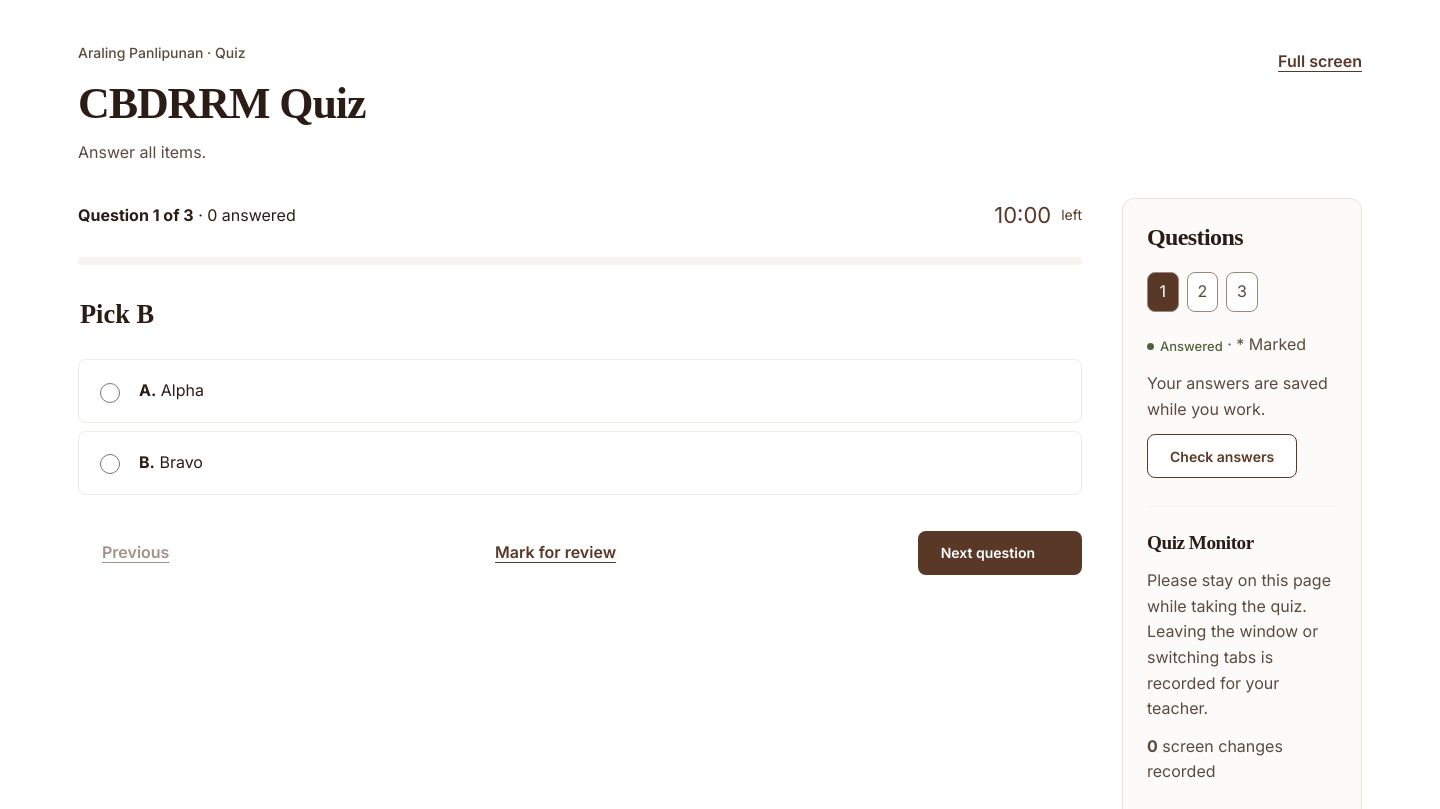
Test: QuizRunner › shows the first question, then navigates and records answers on the device
Expected: the heading "CBDRRM Quiz" is shown, [78, 78, 365, 130]
Expected: the text "Question 1 of 3" is shown, [78, 205, 194, 225]
Click the radio button labelled "B. Bravo": (110, 464) [100, 454, 120, 474]
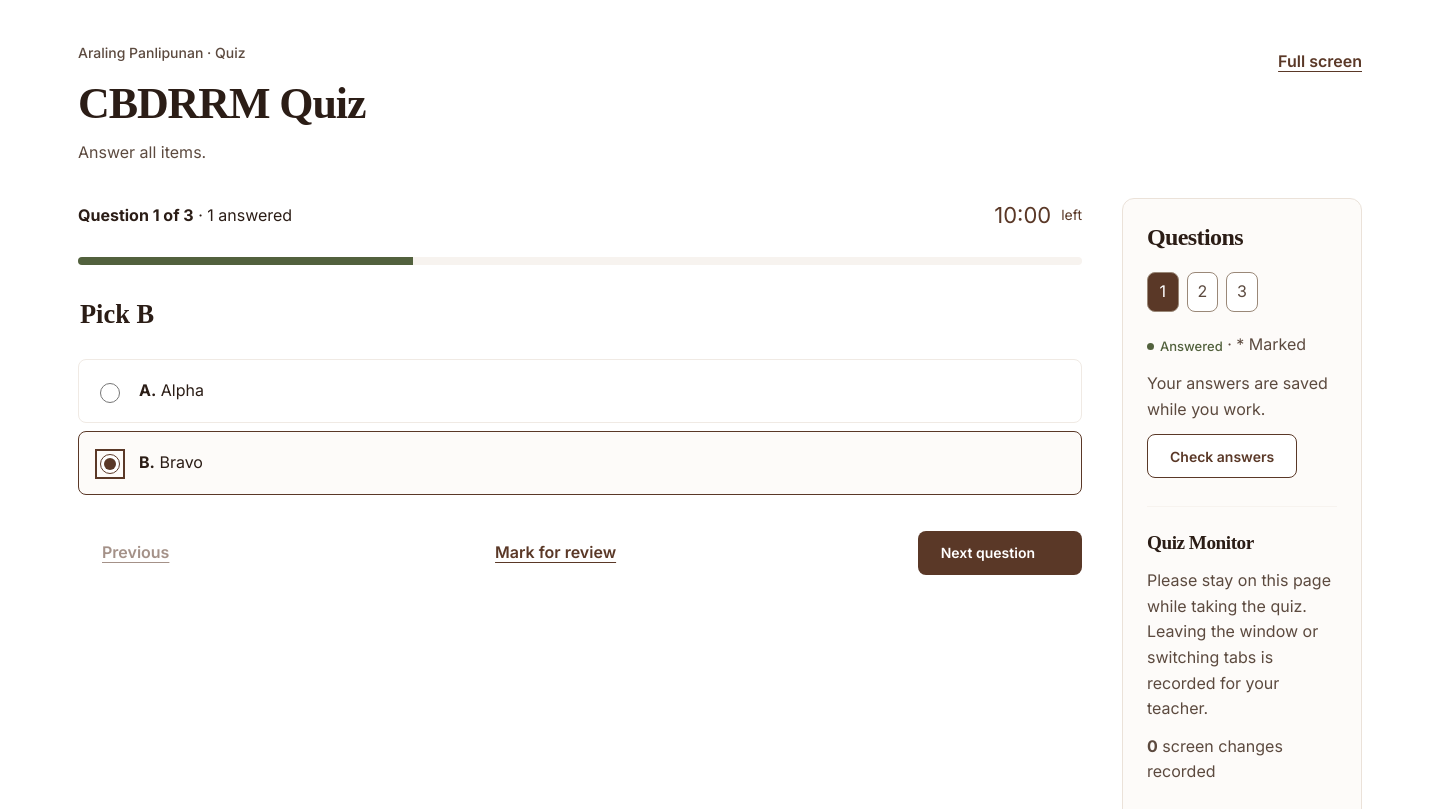
Expected: the text "Question 1 of 3 · 1 answered" is shown, [78, 203, 292, 228]
Click the button "Next question": (1000, 553) [918, 531, 1082, 575]
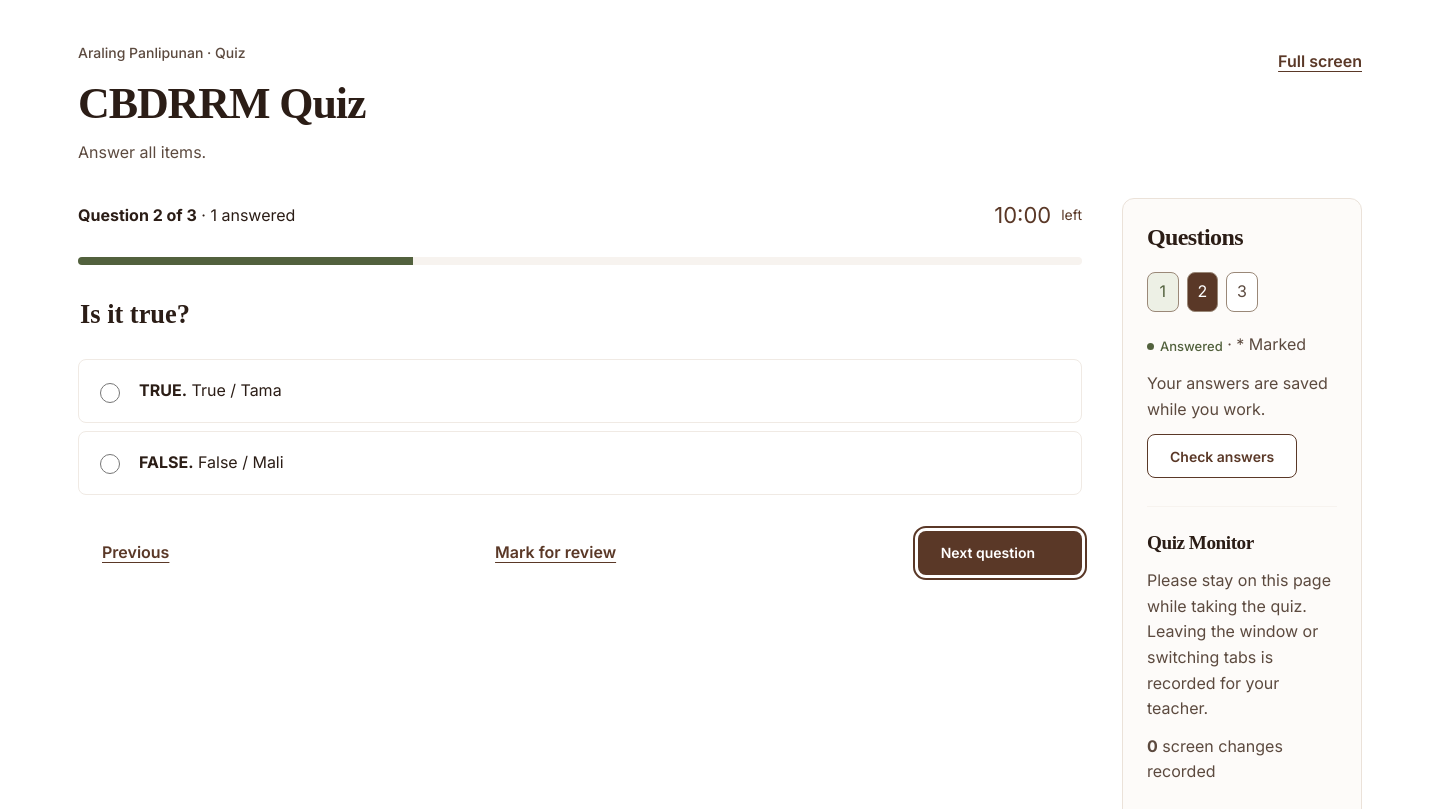
Expected: the radio button labelled "TRUE. True / Tama" is shown, [100, 383, 120, 403]
Expected: the text "Question 2 of 3" is shown, [78, 205, 197, 225]
Click the radio button labelled "FALSE. False / Mali": (110, 464) [100, 454, 120, 474]
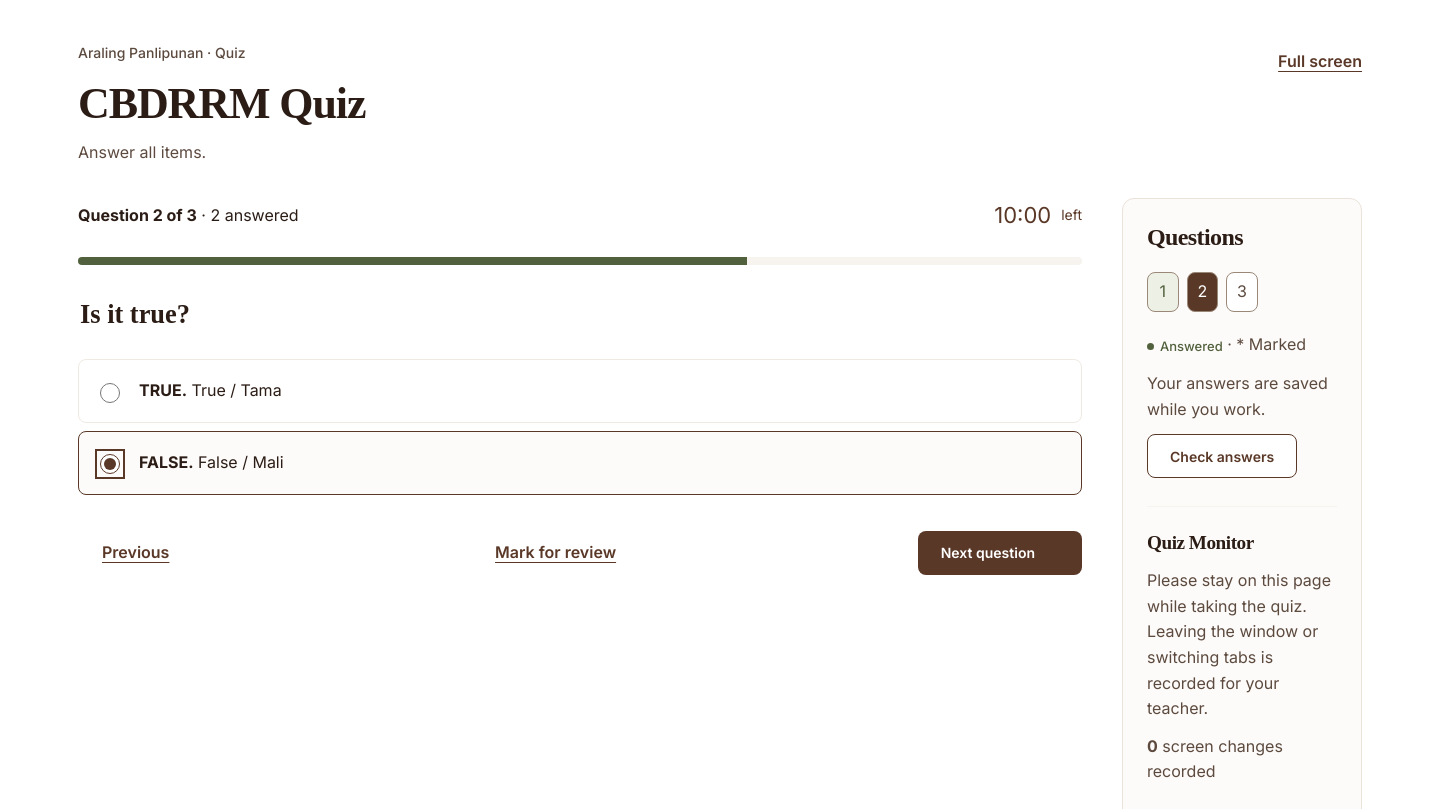
Click the button "Previous": (124, 553) [78, 531, 169, 575]
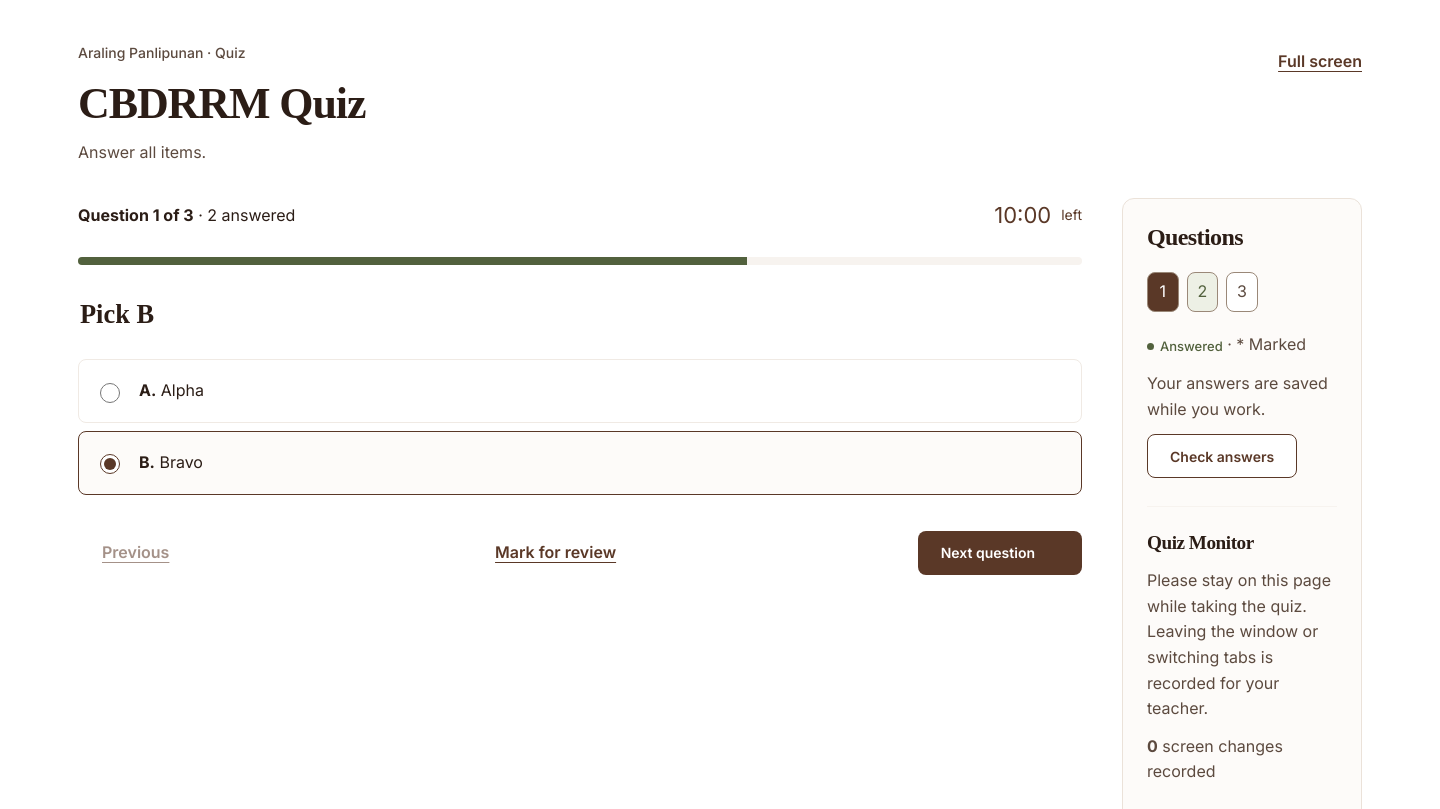
Expected: the radio button labelled "B. Bravo" is checked, [100, 454, 120, 474]
Click the button named "Question 3, not answered": (1242, 292) [1226, 272, 1258, 312]
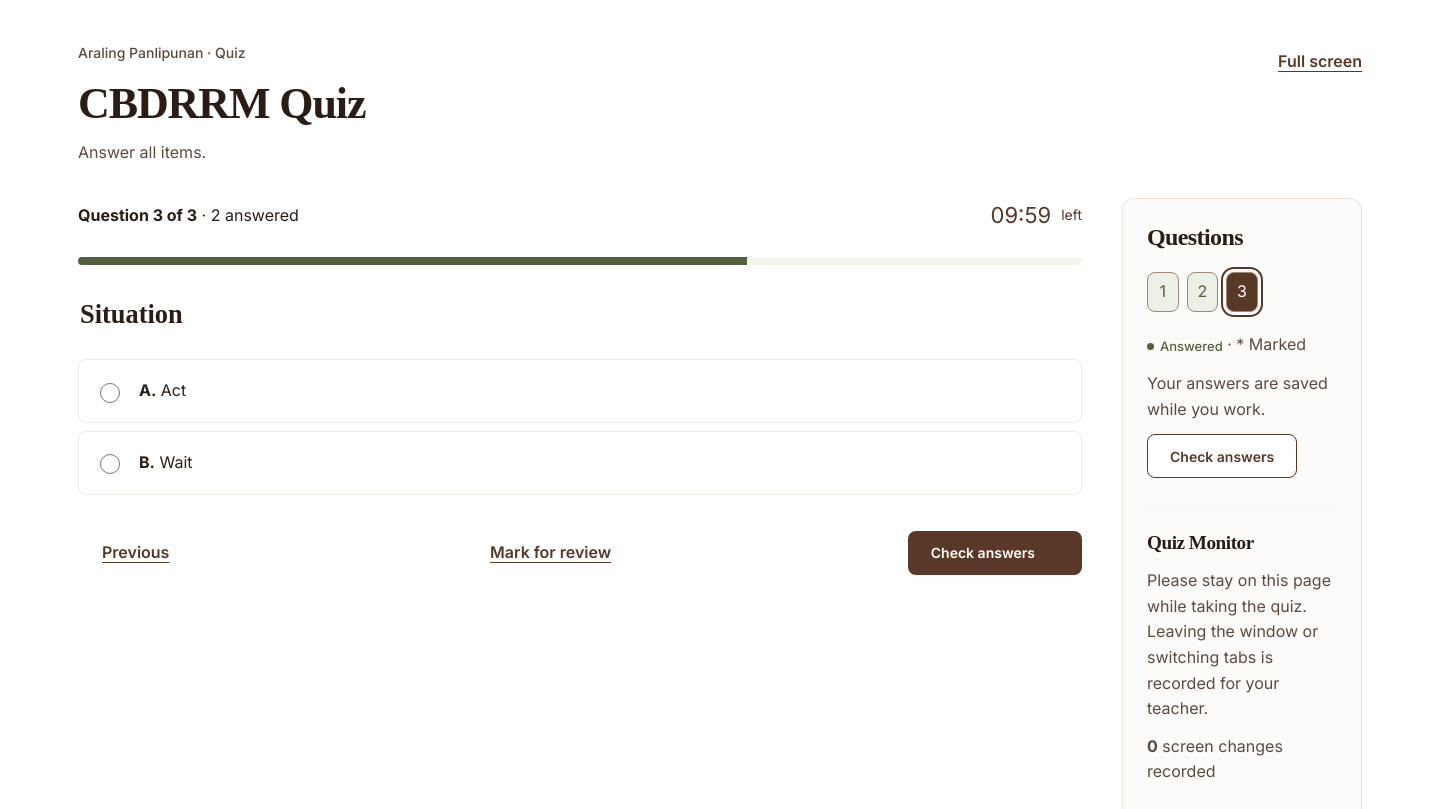
Expected: the number of buttons "Check answers" is 2, [908, 531, 1082, 575]; [1147, 434, 1297, 478]
Expected: the text "Question 3 of 3" is shown, [78, 205, 197, 225]
Expected: the button "Next question" is gone
